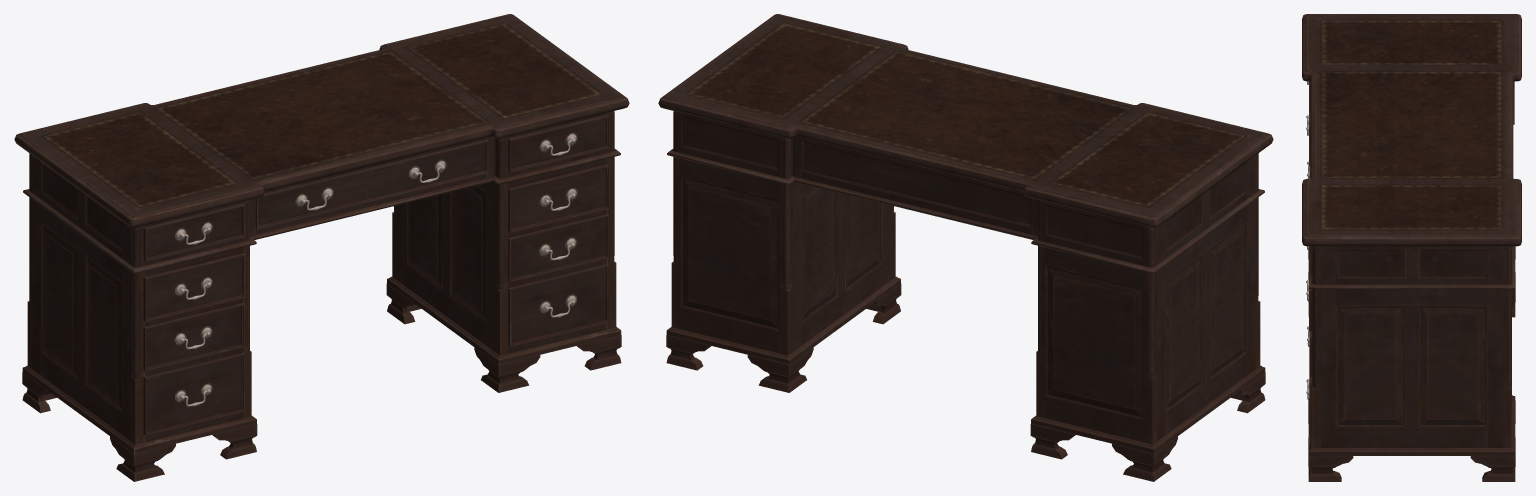
Rendered from antique-desk-c491f6.glb.
3 renders of one model, left to right at view 1: azimuth 30°, elevation 25°; view 2: azimuth 150°, elevation 25°; view 3: azimuth 270°, elevation 25°, orthographic. The views are drawn at different scales.
Visible parts, largest first — view 1: PropMesh; view 2: PropMesh; view 3: PropMesh.
Boxes of the visible parts, bbox=[...] form: PropMesh: bbox=[14, 14, 629, 481]; PropMesh: bbox=[658, 14, 1273, 481]; PropMesh: bbox=[1302, 14, 1521, 481].
Bounding box in the file's own units: 1.79 × 0.9116 × 0.736.
Materials: 1 (1 with a texture image).
